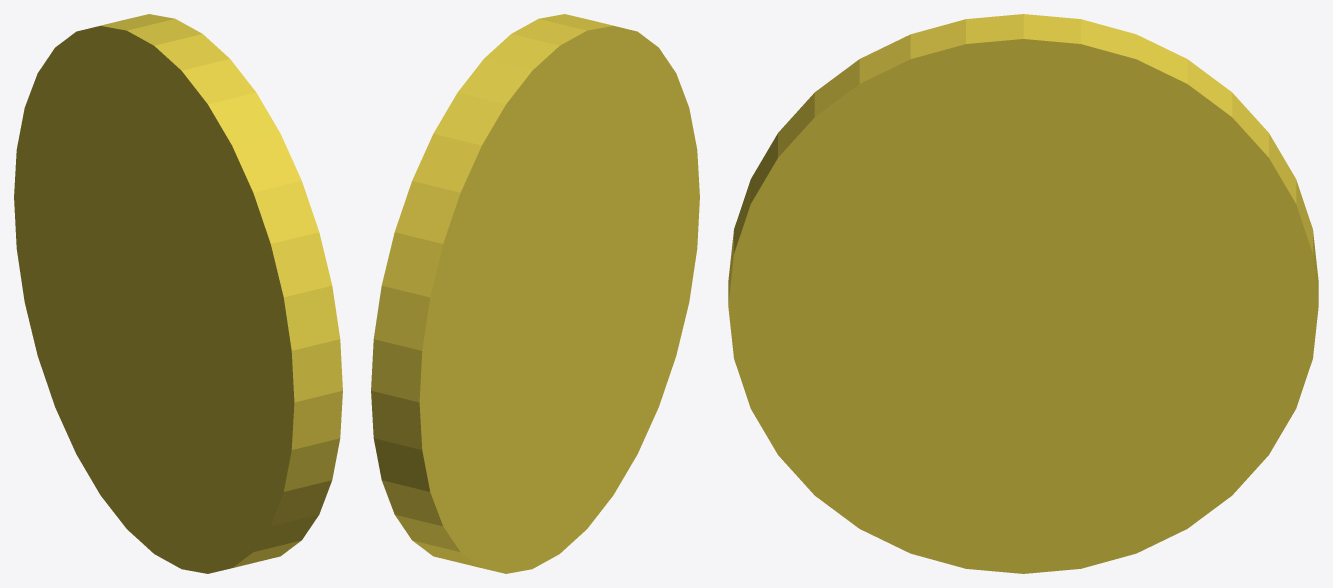
Rendered from coin.gltf.
3 views of the same model, side by side, from view 1: azimuth 30°, elevation 25°; view 2: azimuth 150°, elevation 25°; view 3: azimuth 270°, elevation 25° (orthographic). The views are drawn at different scales.
Parts seen in each view (by area): view 1: Cylinder; view 2: Cylinder; view 3: Cylinder.
Part boxes in pixels (<box>): Cylinder: <box>14,14,342,573</box>; Cylinder: <box>371,14,699,573</box>; Cylinder: <box>728,14,1318,573</box>.
Bounding box in the file's own units: 0.2 × 2 × 2.
